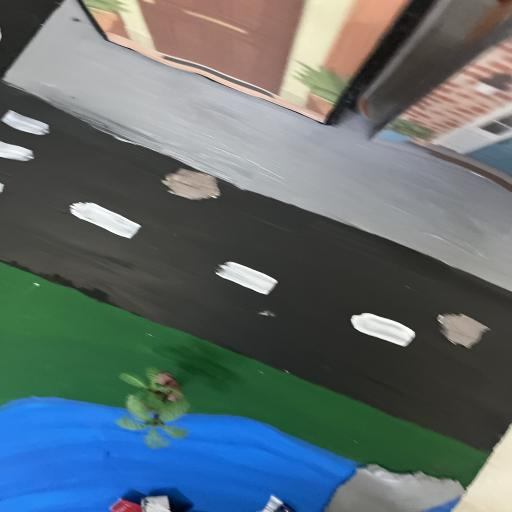encroachment: (320, 458, 466, 512)
porthole: (158, 164, 224, 203), (431, 311, 493, 347)
trash: (111, 493, 295, 512)
